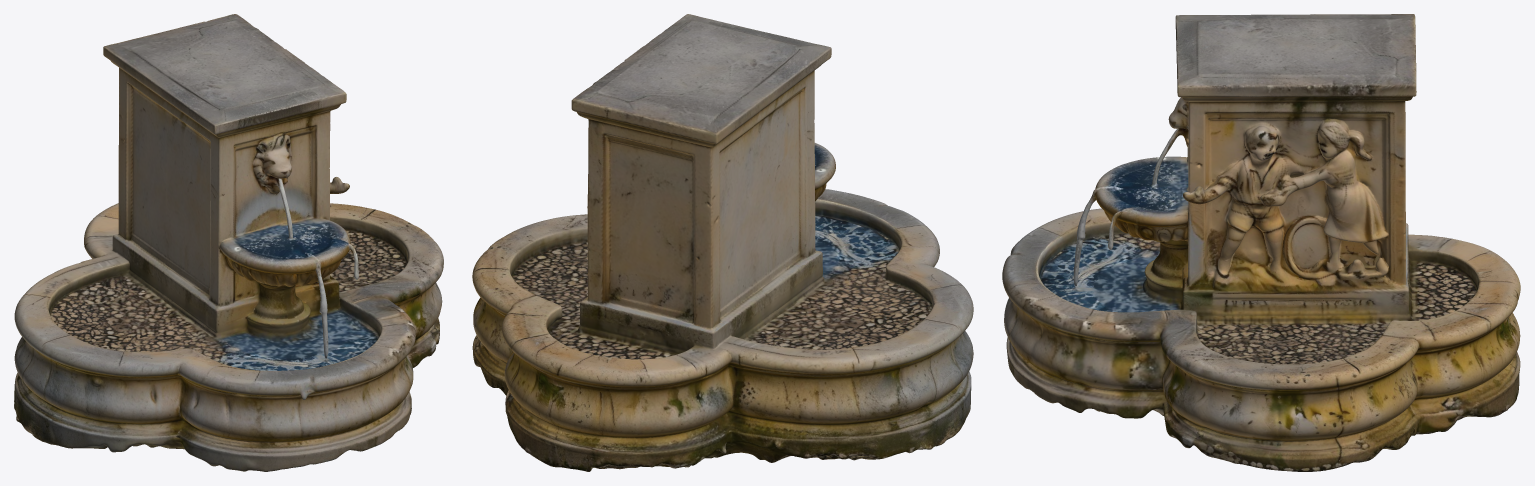
Rendered from Fountain.glb.
The picture shows the model from 3 angles, left to right: view 1: azimuth 30°, elevation 25°; view 2: azimuth 150°, elevation 25°; view 3: azimuth 270°, elevation 25°; orthographic projection. The views are drawn at different scales.
Visible parts, largest first — view 1: tripo_node_9d89bcf9-3bc6-44fc-80b5-61a7d66a4011; view 2: tripo_node_9d89bcf9-3bc6-44fc-80b5-61a7d66a4011; view 3: tripo_node_9d89bcf9-3bc6-44fc-80b5-61a7d66a4011.
Part boxes in pixels (x1,y1,x2,y2): tripo_node_9d89bcf9-3bc6-44fc-80b5-61a7d66a4011: (14,14,443,471); tripo_node_9d89bcf9-3bc6-44fc-80b5-61a7d66a4011: (472,14,973,471); tripo_node_9d89bcf9-3bc6-44fc-80b5-61a7d66a4011: (1002,14,1520,471).
Bounding box in the file's own units: 0.9996 × 0.7257 × 1.
1 material, 1 textured.
